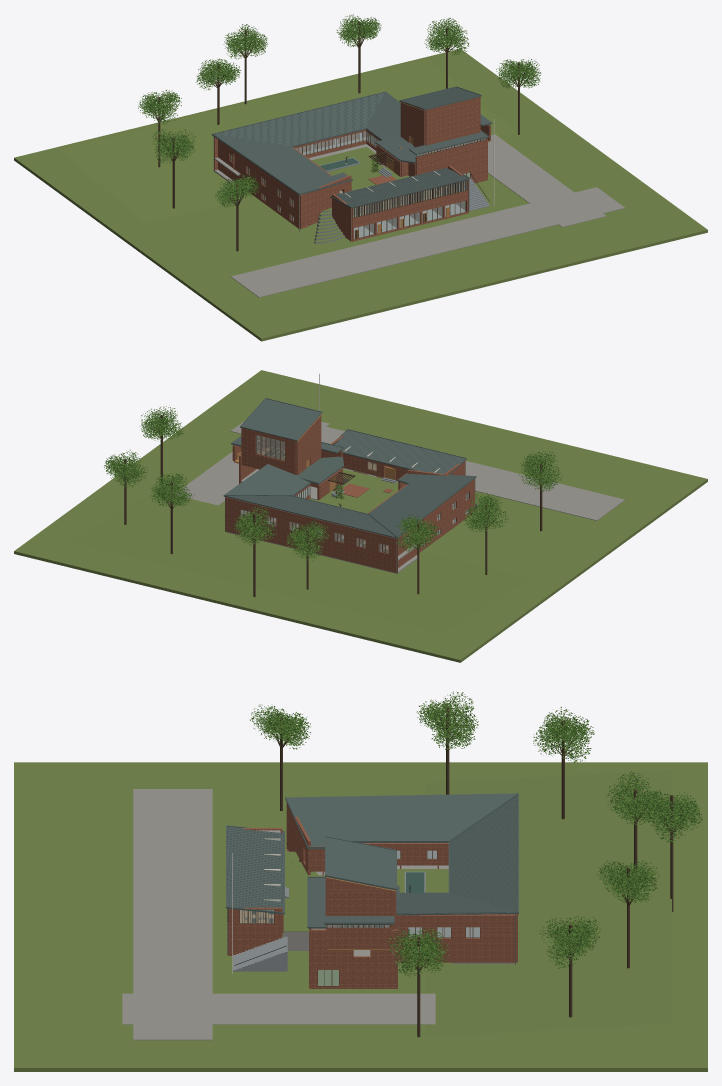
3 renders of one model, top to bottom at view 1: azimuth 30°, elevation 25°; view 2: azimuth 150°, elevation 25°; view 3: azimuth 270°, elevation 25°, orthographic. The views are drawn at different scales.
Visible parts, largest first — view 1: 07_Complete_Architecture; view 2: 07_Complete_Architecture; view 3: 07_Complete_Architecture.
Part boxes in pixels (box(x1,y1,x2,y2)): 07_Complete_Architecture: box(14, 14, 707, 341); 07_Complete_Architecture: box(14, 370, 707, 662); 07_Complete_Architecture: box(14, 691, 707, 1071).
Bounding box in the file's own units: 100 × 19.13 × 96.
Materials: 19 (1 with a texture image).
